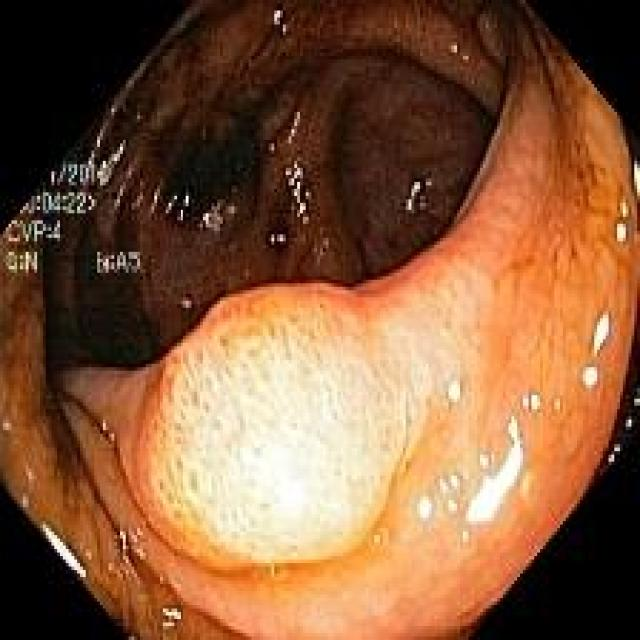Polyps: (140, 246, 465, 568)
